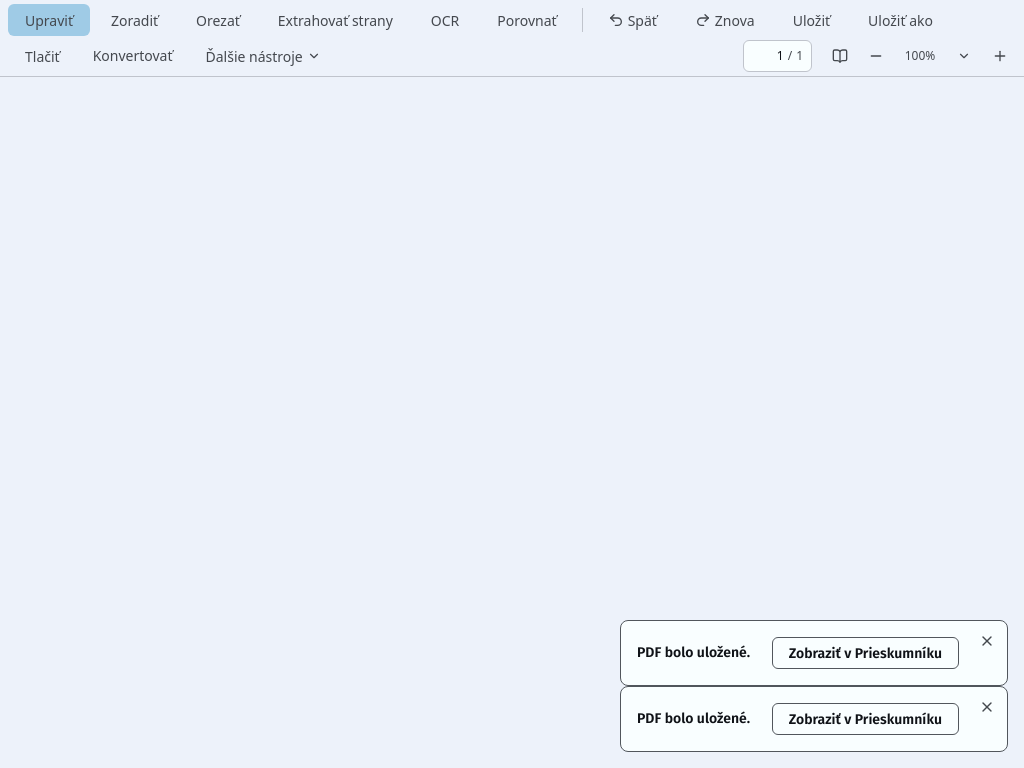
Test: WorkspaceTopBar › the overflow menu lists the other document-level tools
The image size is (1024, 768).
Step 1. Click the button "Ďalšie nástroje" → (263, 56), box [188,40,338,72]
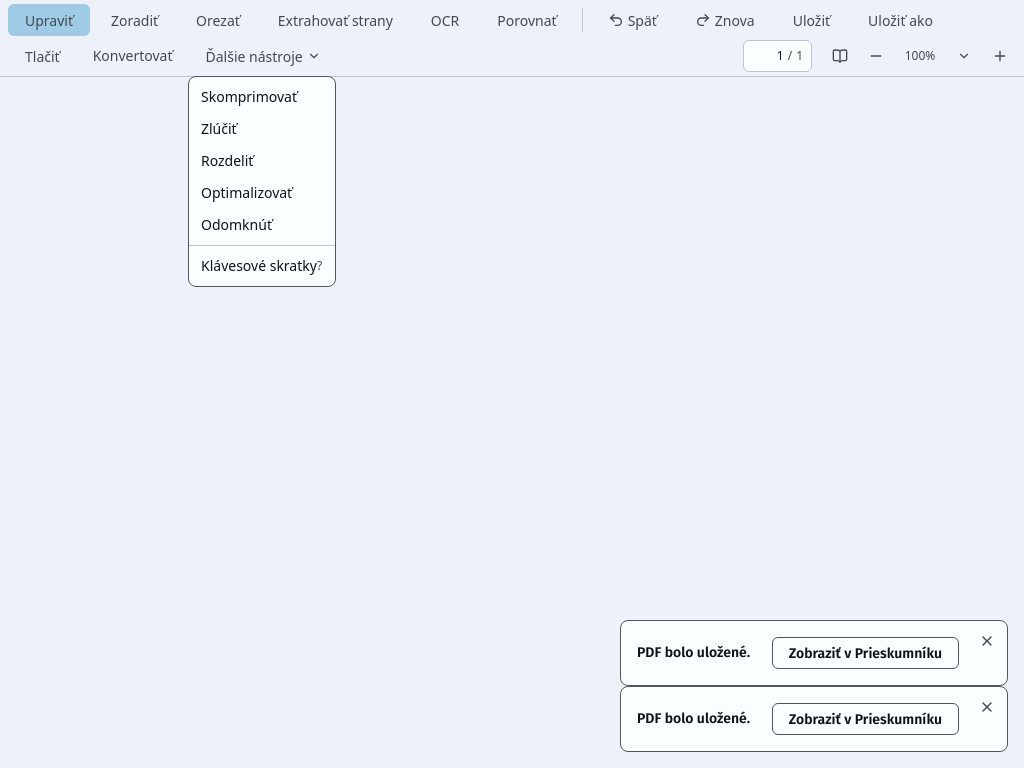
Result: the menu item "Skomprimovať" is shown at [201,87,297,106]
Result: the menu item "Zlúčiť" is shown at [201,119,237,138]
Result: the menu item "Rozdeliť" is shown at [201,151,253,170]
